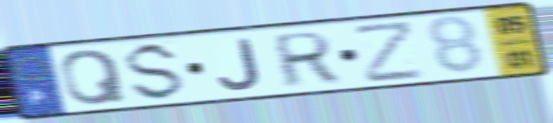8: (424, 14, 492, 78)
J: (216, 36, 265, 92)
Q: (58, 47, 130, 108)
R: (272, 29, 342, 91)
S: (124, 40, 189, 103)
Z: (350, 18, 428, 86)
